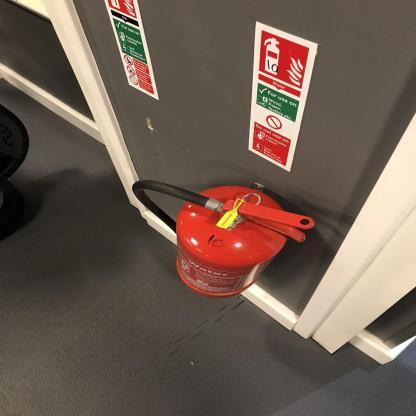Fire Extinguisher: (121, 143, 321, 316)
